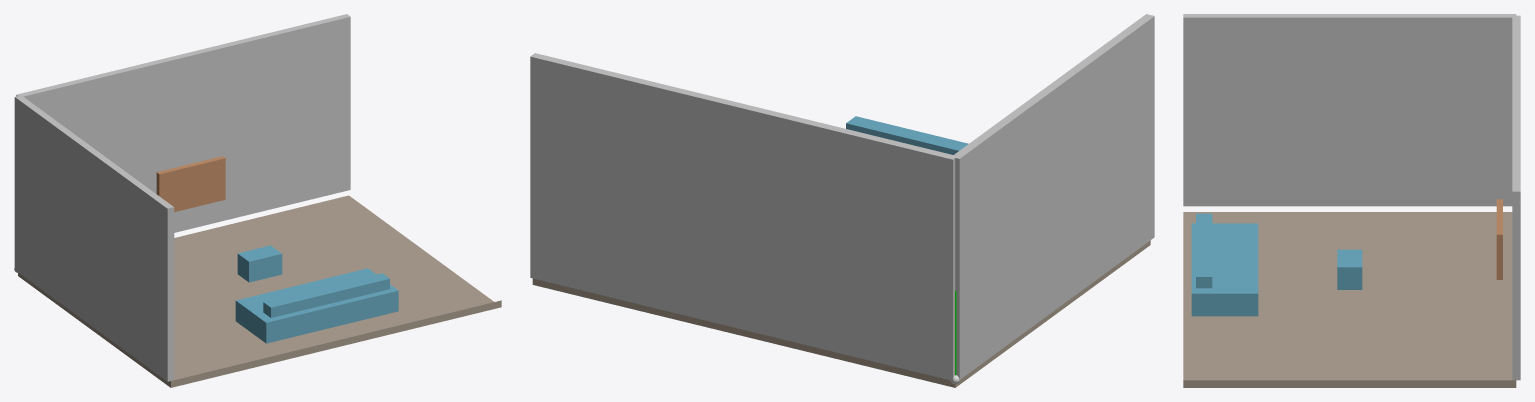
Rendered from demo_scene.glb.
3 renders of one model, left to right at view 1: azimuth 30°, elevation 25°; view 2: azimuth 150°, elevation 25°; view 3: azimuth 270°, elevation 25°, orthographic. The views are drawn at different scales.
Visible parts, largest first — view 1: world; view 2: world; view 3: world.
Part boxes in pixels (x1,y1,x2,y2): world: (14,14,501,387); world: (530,14,1154,387); world: (1183,14,1520,387).
Size of the model in its own units: 5.05 by 2.6 by 4.05.
